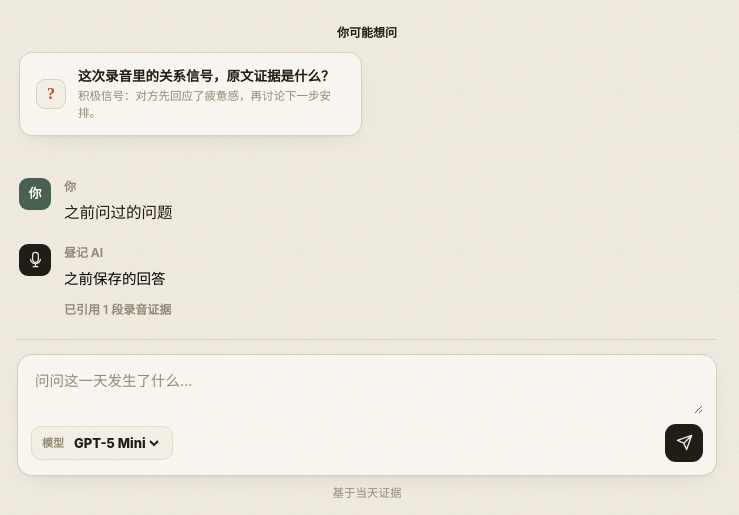
Test case: QaPanel › keeps suggested questions visible with history and fills the composer before explicit submit
(page scrolled)
Expected: the text "之前保存的回答" is shown, [64,270,166,287]
Click the button "? 这次录音里的关系信号，原文证据是什么？ 积极信号：对方先回应了疲惫感，再讨论下一步安排。" at (190, 94), box [19,52,362,136]
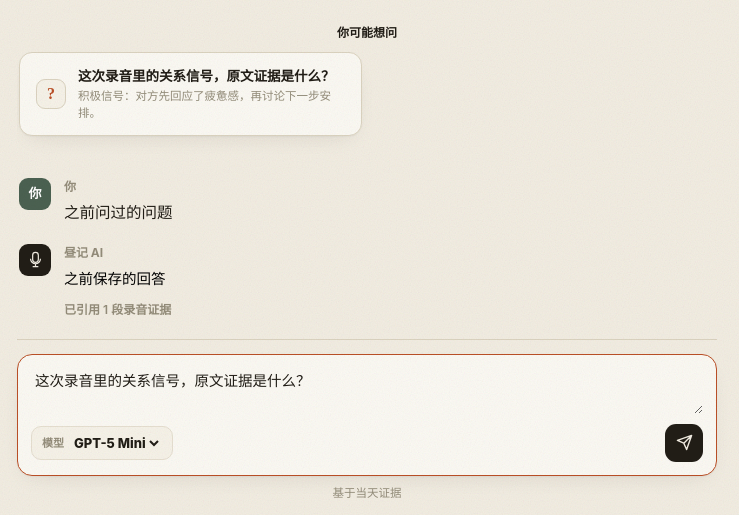
Result: the text box named "问题" holds "这次录音里的关系信号，原文证据是什么？" at [31,368,703,414]
Click the button named "提问" at (684, 443), box [665,424,703,462]
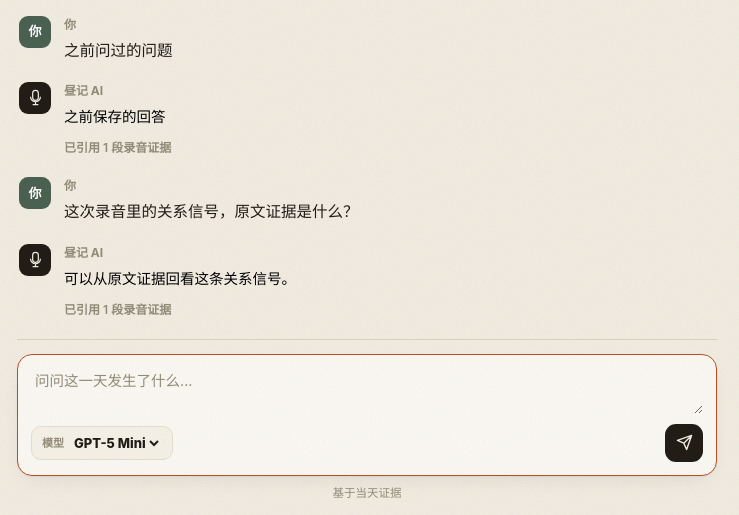
Result: the text "可以从原文证据回看这条关系信号。" is shown at [64,270,296,286]
